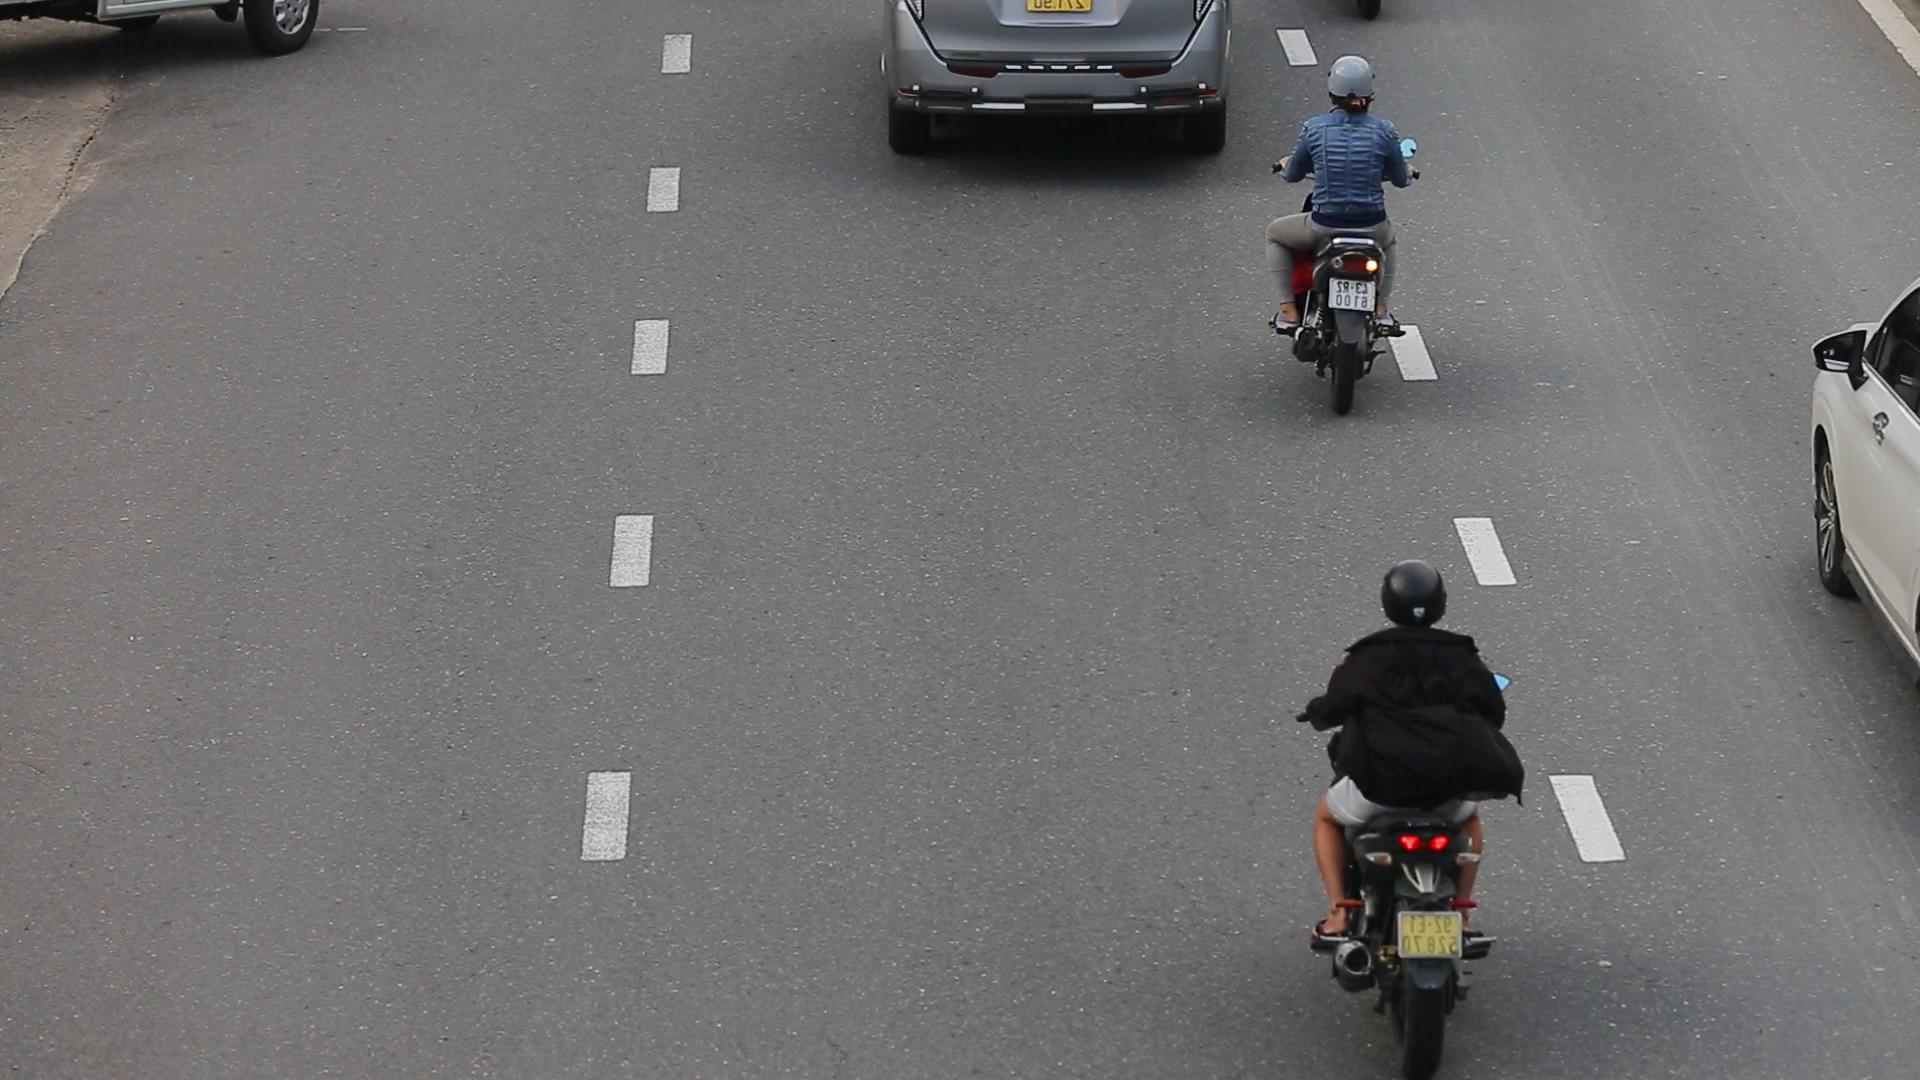motobike: (1295, 555, 1527, 1079), (1258, 55, 1427, 426)
